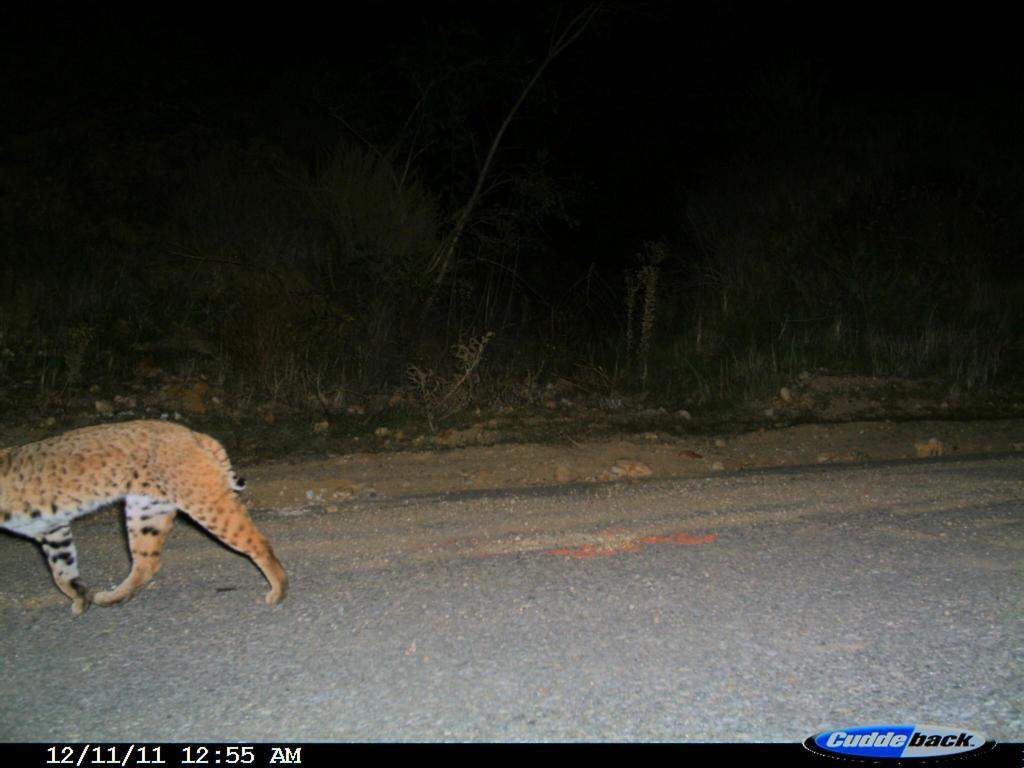bobcat: (6, 410, 310, 616)
